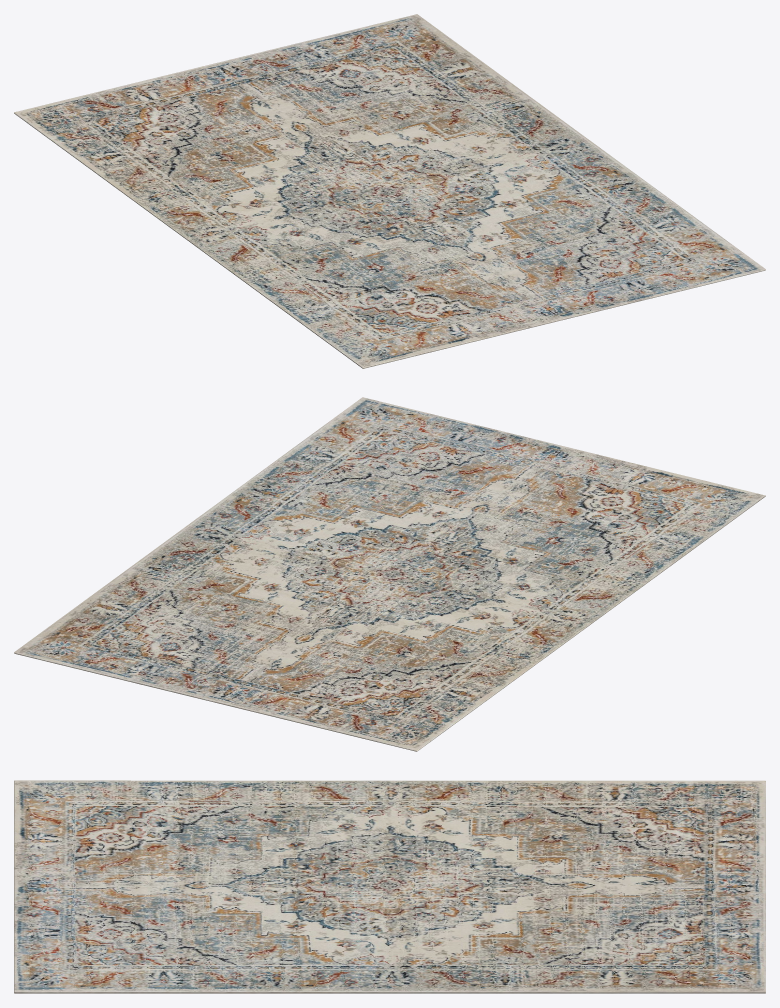
The model's file is onsevig_rug_low_pile_multicolor.glb.
The picture shows the model from 3 angles, top to bottom: view 1: azimuth 30°, elevation 25°; view 2: azimuth 150°, elevation 25°; view 3: azimuth 270°, elevation 25°; orthographic projection. The views are drawn at different scales.
Visible parts, largest first — view 1: G-10525026-ONSEVIG; view 2: G-10525026-ONSEVIG; view 3: G-10525026-ONSEVIG.
Boxes of the visible parts, <box> form: G-10525026-ONSEVIG: <box>14,14,765,368</box>; G-10525026-ONSEVIG: <box>14,397,765,751</box>; G-10525026-ONSEVIG: <box>14,780,765,993</box>.
Size of the model in its own units: 2 by 0.00604 by 3.
1 material, 1 textured.
